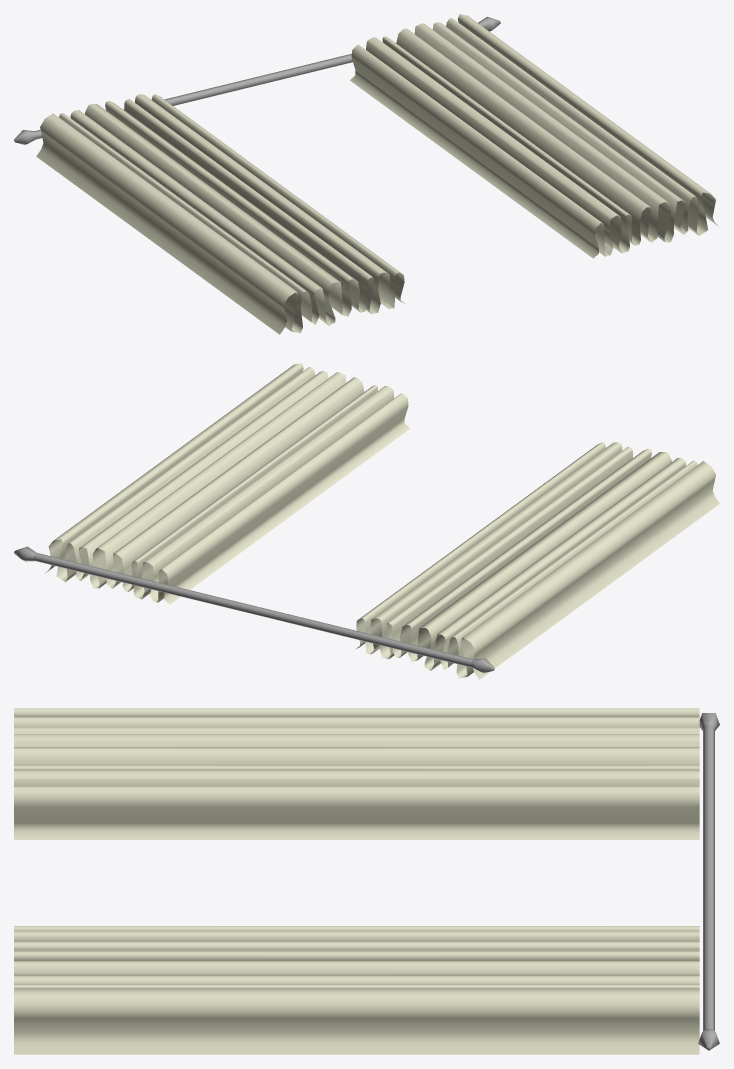
3 renders of one model, top to bottom at view 1: azimuth 30°, elevation 25°; view 2: azimuth 150°, elevation 25°; view 3: azimuth 270°, elevation 25°, orthographic. The views are drawn at different scales.
Visible parts, largest first — view 1: Mesh2 Component_1_2 Model, Mesh1 Component_1_1 Model, Mesh5 Model; view 2: Mesh2 Component_1_2 Model, Mesh1 Component_1_1 Model, Mesh5 Model; view 3: Mesh1 Component_1_1 Model, Mesh2 Component_1_2 Model, Mesh5 Model.
Part boxes in pixels (x1=…): Mesh2 Component_1_2 Model: x1=350, y1=14, x2=718, y2=258; Mesh1 Component_1_1 Model: x1=36, y1=94, x2=405, y2=334; Mesh5 Model: x1=35, y1=53, x2=352, y2=139; Mesh2 Component_1_2 Model: x1=45, y1=363, x2=409, y2=604; Mesh1 Component_1_1 Model: x1=356, y1=442, x2=719, y2=679; Mesh5 Model: x1=33, y1=553, x2=473, y2=667; Mesh1 Component_1_1 Model: x1=14, y1=708, x2=699, y2=839; Mesh2 Component_1_2 Model: x1=14, y1=926, x2=699, y2=1054; Mesh5 Model: x1=703, y1=724, x2=714, y2=1030.
Bounding box in the file's own units: 92 × 7.74 × 82.36.
